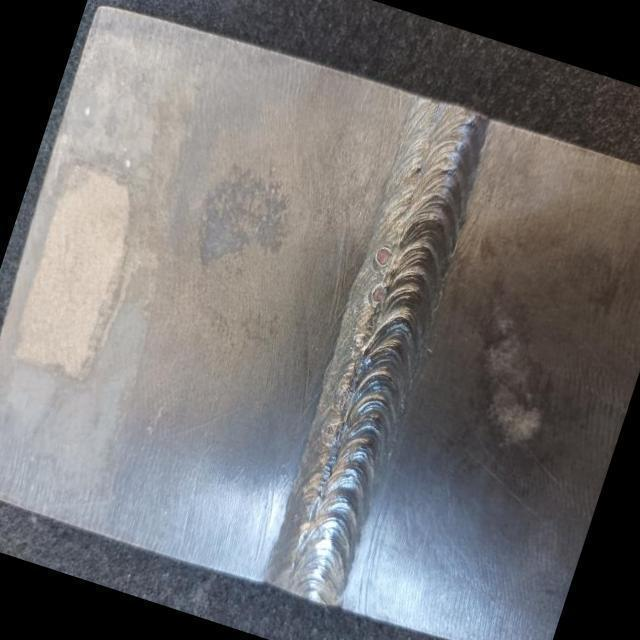defect: (372, 238, 394, 268), (333, 383, 354, 411), (323, 419, 345, 442), (371, 281, 388, 309), (411, 162, 423, 176)
